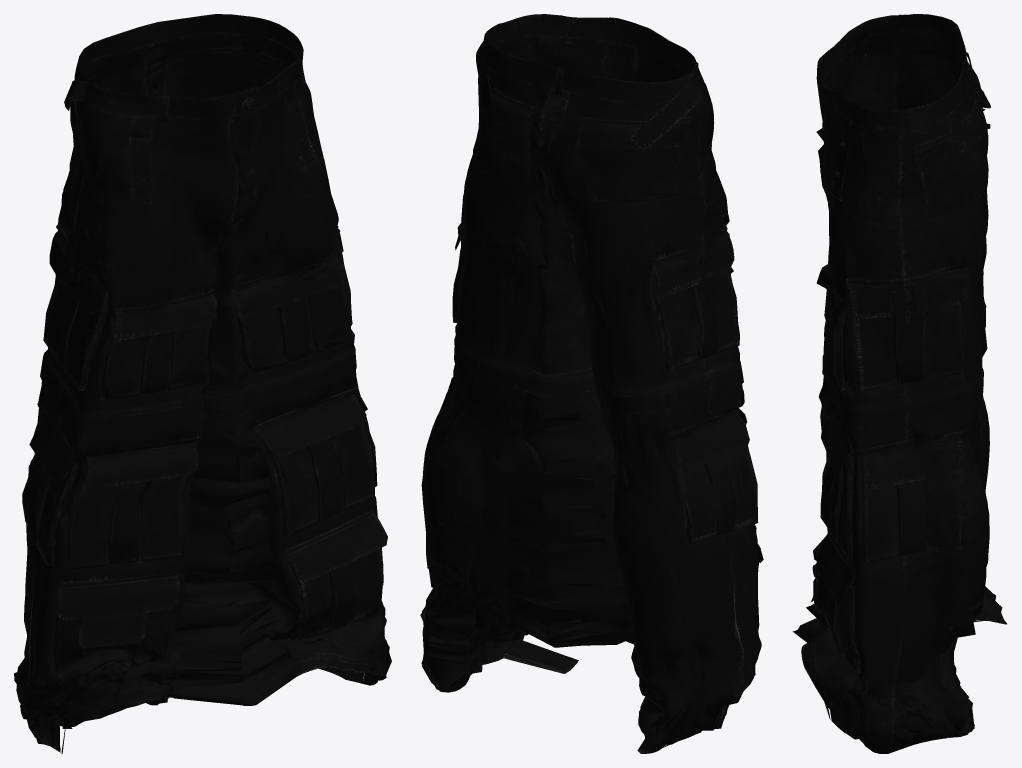
The model's file is cargo_jeans.glb.
The picture shows the model from 3 angles, left to right: view 1: azimuth 30°, elevation 25°; view 2: azimuth 150°, elevation 25°; view 3: azimuth 270°, elevation 25°; orthographic projection. The views are drawn at different scales.
Visible parts, largest first — view 1: cargo_jeans; view 2: cargo_jeans; view 3: cargo_jeans.
Part boxes in pixels (box(x1,y1,x2,y2)): cargo_jeans: box(14, 14, 391, 753); cargo_jeans: box(420, 14, 763, 753); cargo_jeans: box(792, 14, 1006, 753).
Size of the model in its own units: 0.5807 by 1.06 by 0.3299.
Materials: 1 (1 with a texture image).
